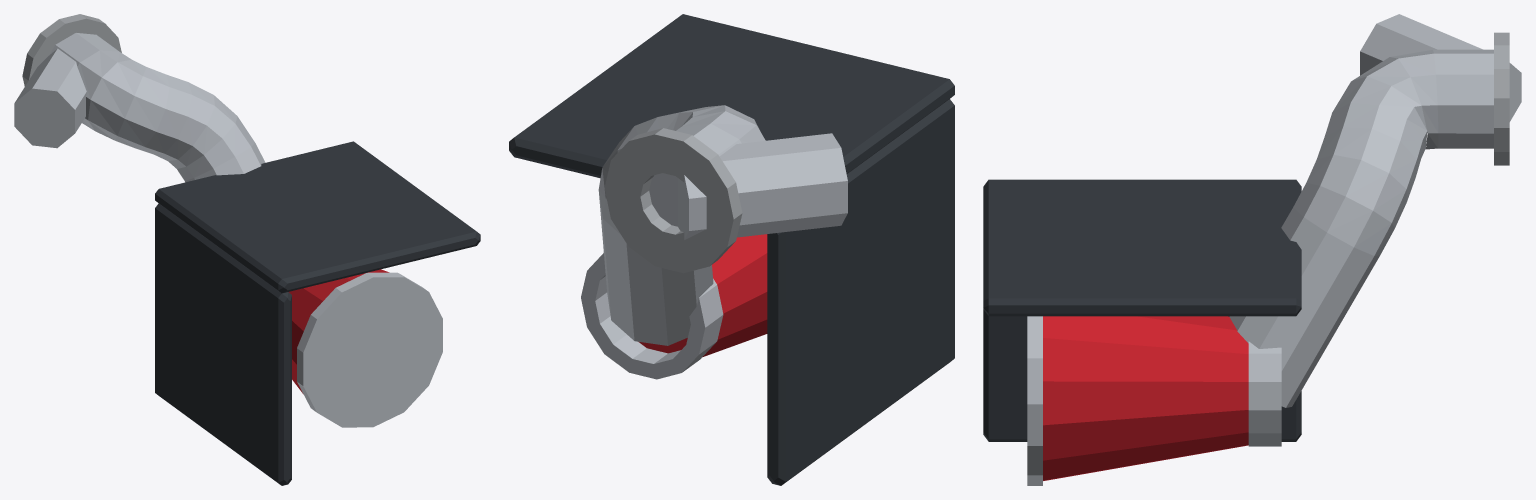
File: starter_car.glb
3 views of the same model, side by side, from view 1: azimuth 30°, elevation 25°; view 2: azimuth 150°, elevation 25°; view 3: azimuth 270°, elevation 25° (orthographic). The views are drawn at different scales.
Parts seen in each view (by area): view 1: model; view 2: model; view 3: model.
Boxes of the visible parts, x1=… form: model: x1=14, y1=14, x2=480, y2=485; model: x1=509, y1=14, x2=954, y2=485; model: x1=983, y1=14, x2=1521, y2=485.
Bounding box in the file's own units: 0.3209 × 0.33 × 0.4059.
Materials: 2 (1 with a texture image).
